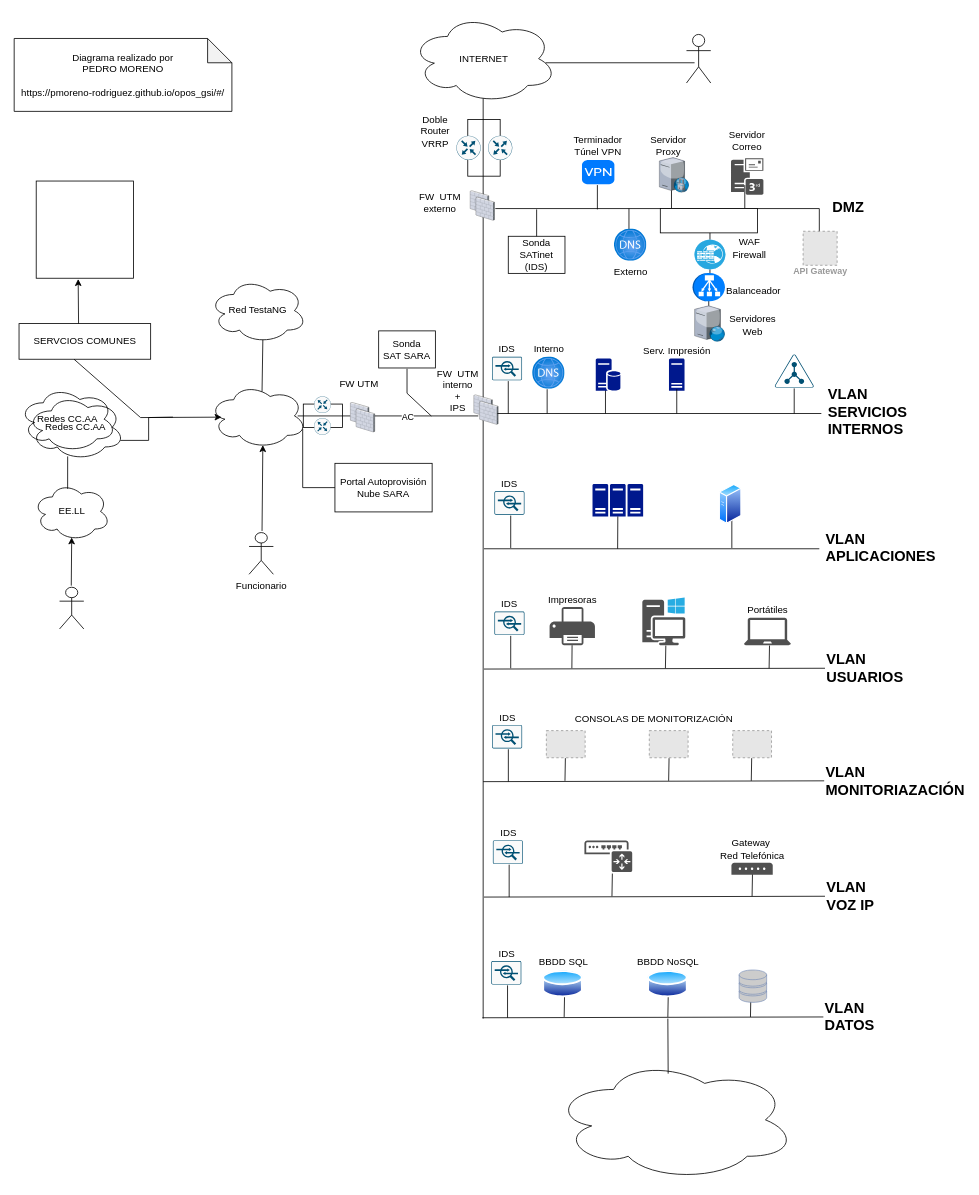
Image size: 979x1195. Some labels were removed from this diagram. Grey dashed boxes stand in for pictures. Here are the shapes that lost their labels. From the top down, the centre of each, then its label:
At point (698, 58): "Ciudadano".
At point (84, 229): "CL@VE AUTENTIC@ @FIRMA NOTIFIC@ REGAGE ...".
At point (709, 220): "Terminador Túnel HTTPS".
At point (607, 374): "Serv. Backup".
At point (793, 370): "LDAP".
At point (258, 415): "Red SARA".
At point (617, 500): "Servidores Aplicaciones".
At point (730, 504): "Servidor FIRE".
At point (71, 607): "Funcionario Entidad Local".
At point (663, 621): "PCs".
At point (608, 856): "PBX Centralita Private Branch".
At point (752, 986): "DWH".
At point (674, 1119): "RED ÁREA DE ALMACENAMIENTO SAN NETWORK".
